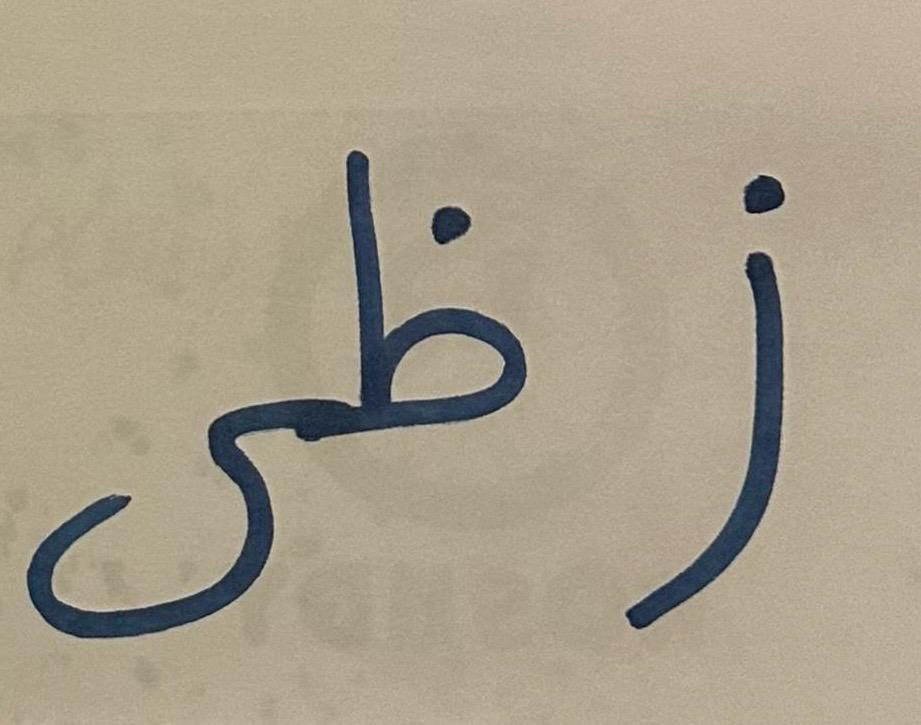hamza: (558, 120, 881, 668)
zah: (4, 364, 295, 654)
zain: (297, 102, 554, 523)
